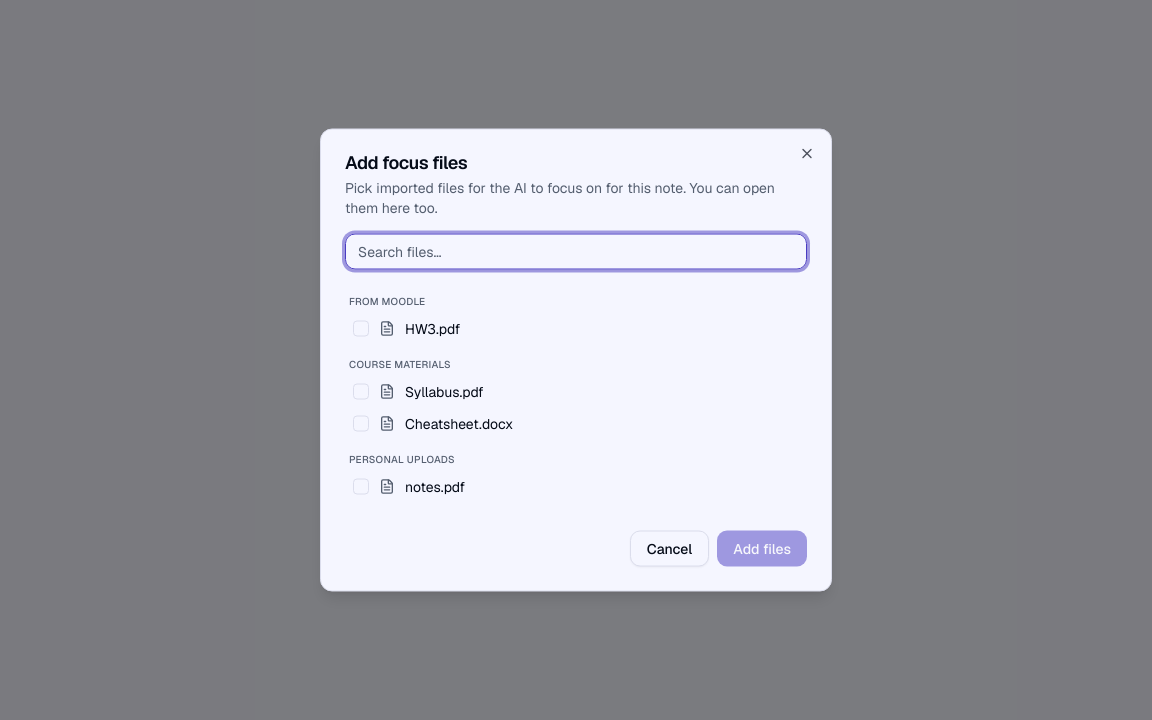
Test case: AddFilesDialog › filters candidates by the search query
Expected: the text "HW3.pdf" is shown, [405,318,460,338]
In the field labelled "Search files": (576, 252) [345,234,807,270], type "cheat"
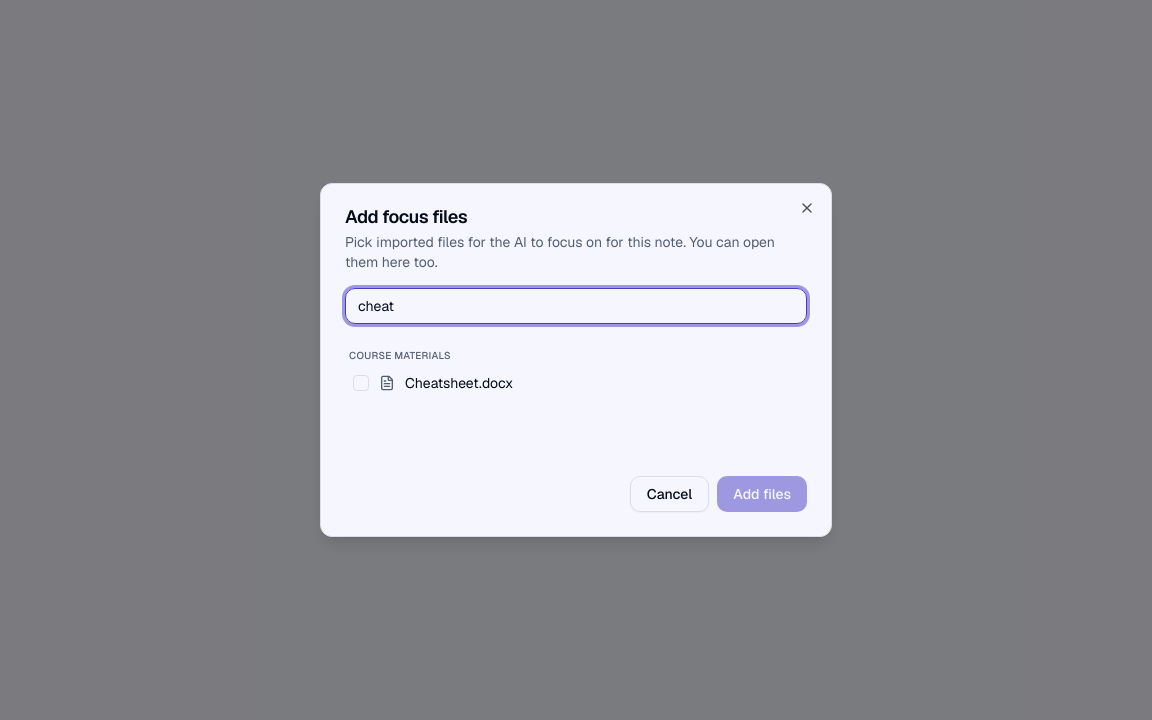
Expected: the text "Cheatsheet.docx" is shown, [405,373,513,393]
Now the button "HW3.pdf" is gone
Now the button "Syllabus.pdf" is gone
